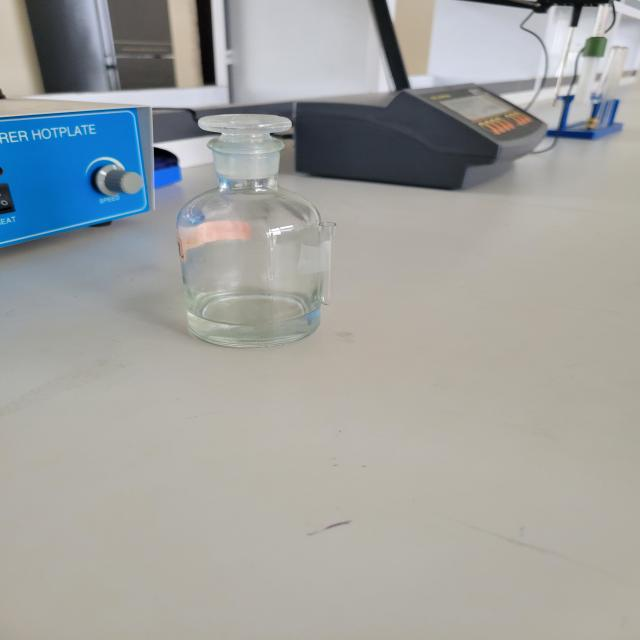Reagent_Bottle: (152, 88, 384, 370)
